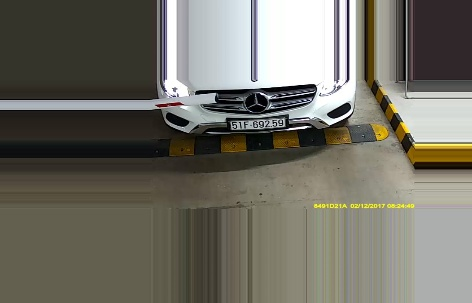plate: (226, 116, 288, 131)
